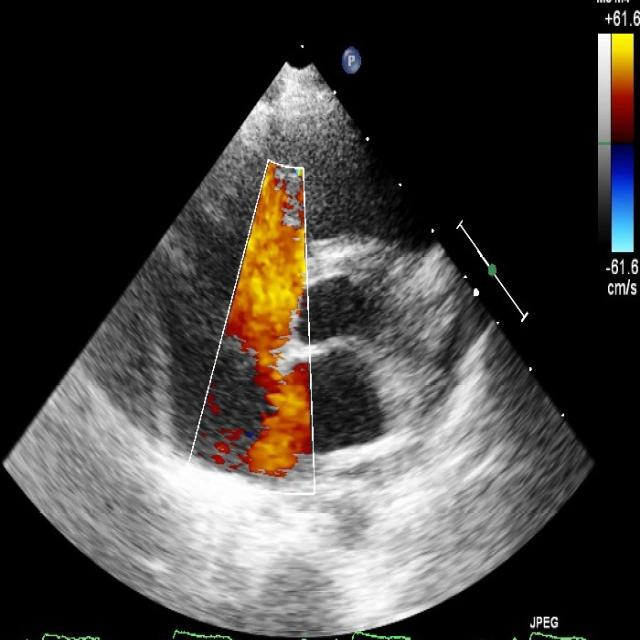ASDType2: (244, 352, 315, 482)
